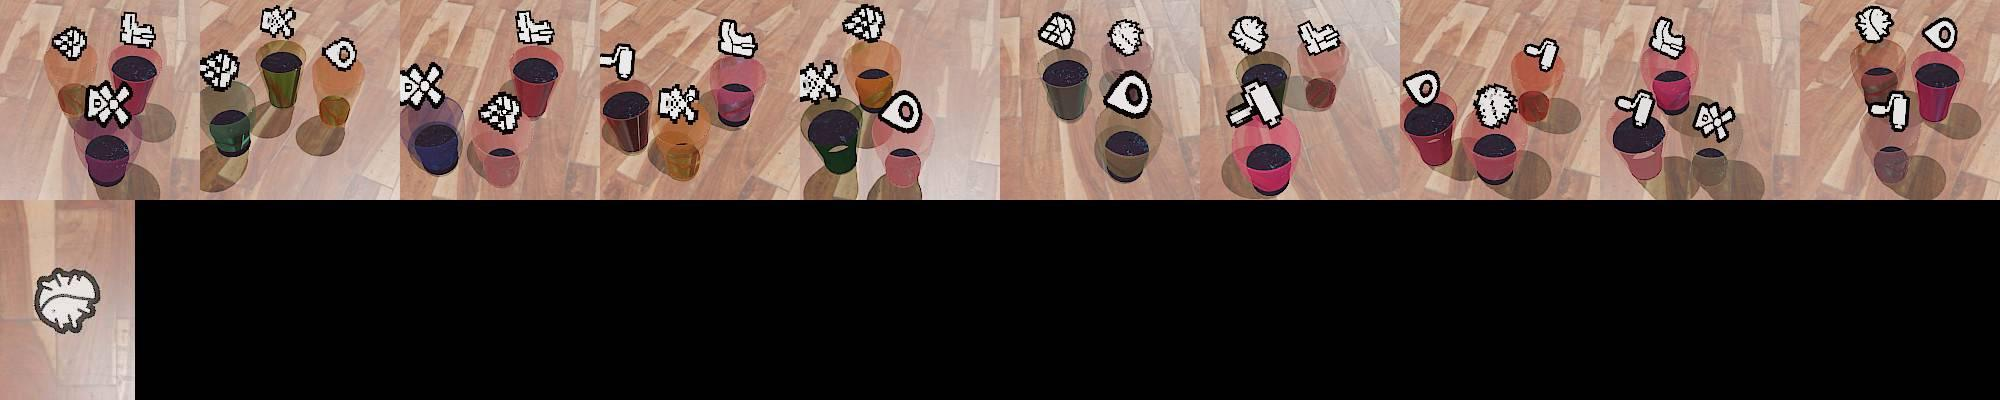icon: (32, 265, 102, 335), (1226, 76, 1286, 130), (1102, 70, 1154, 121), (84, 80, 134, 127), (399, 61, 446, 111), (876, 88, 926, 135), (476, 90, 523, 135), (796, 59, 841, 104), (1472, 83, 1518, 127), (656, 82, 703, 125), (1691, 99, 1736, 143), (1866, 89, 1911, 131), (717, 18, 759, 60), (199, 48, 240, 92), (841, 4, 885, 43), (1228, 15, 1270, 55), (1106, 18, 1148, 57), (1297, 19, 1342, 56), (1649, 14, 1685, 60), (1615, 88, 1656, 127), (513, 9, 555, 47), (1037, 11, 1077, 50), (1403, 69, 1443, 107), (1855, 5, 1895, 42), (119, 11, 157, 48), (599, 43, 636, 82), (259, 4, 297, 41), (1523, 37, 1561, 74), (51, 25, 89, 62), (1921, 17, 1958, 52), (321, 37, 357, 71)
